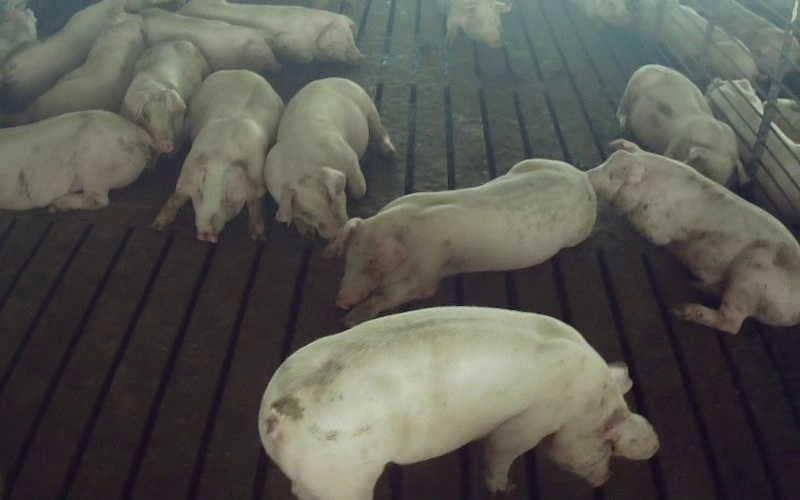pig: (336, 159, 596, 323), (588, 140, 799, 332), (154, 70, 283, 241), (264, 78, 394, 240), (617, 65, 747, 186), (0, 110, 152, 211), (24, 14, 144, 121), (179, 0, 362, 63), (120, 40, 209, 153), (140, 9, 278, 71)
